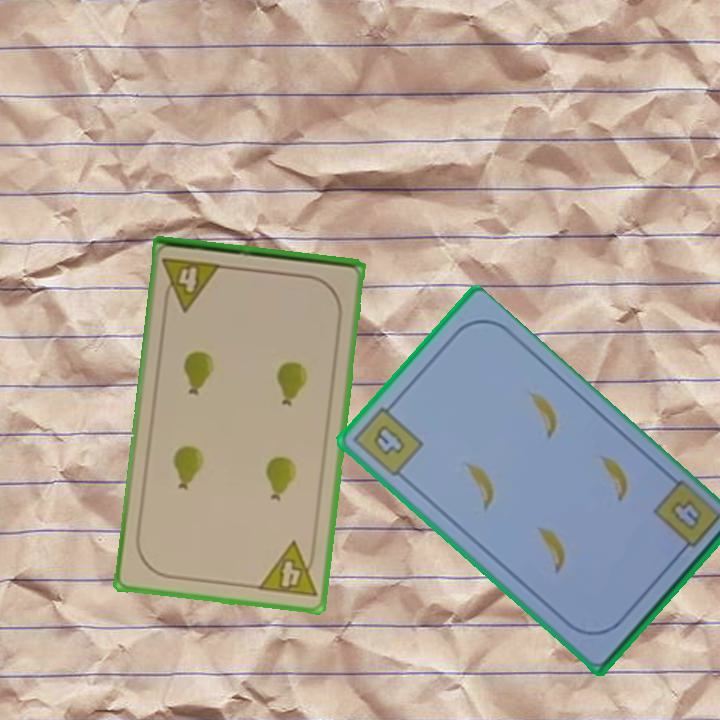4b: (349, 397, 426, 480), (666, 496, 705, 534)
4p: (254, 538, 320, 601), (159, 254, 224, 314)
